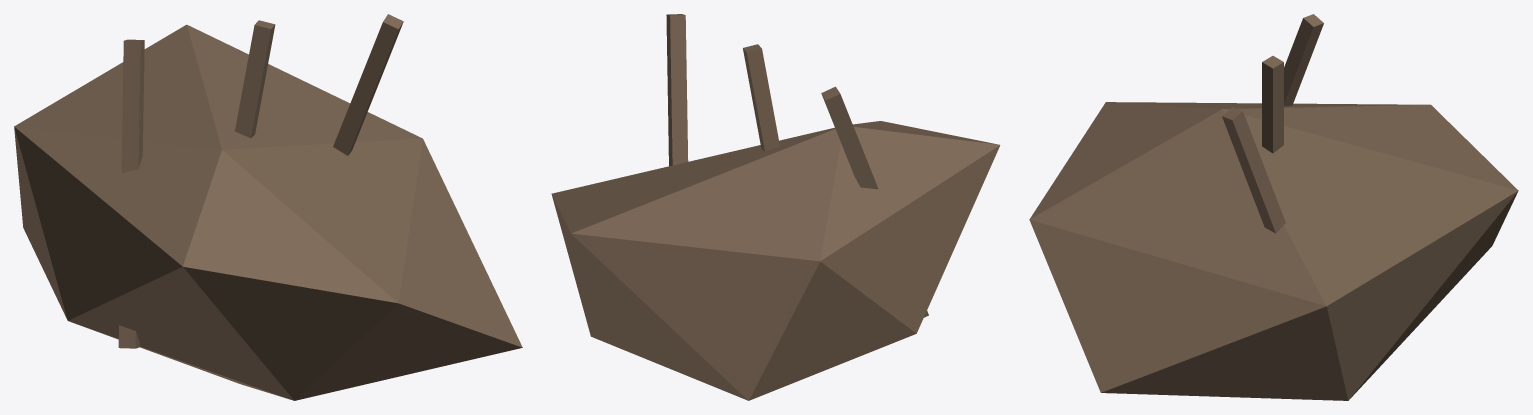
The model's file is dry_bush.fbx.
3 views of the same model, side by side, from view 1: azimuth 30°, elevation 25°; view 2: azimuth 150°, elevation 25°; view 3: azimuth 270°, elevation 25° (orthographic). The views are drawn at different scales.
Parts seen in each view (by area): view 1: dry_bush; view 2: dry_bush; view 3: dry_bush.
Part boxes in pixels (left/top/right/bottom): dry_bush: left=14, top=14, right=522, bottom=400; dry_bush: left=551, top=14, right=1000, bottom=400; dry_bush: left=1029, top=14, right=1518, bottom=400.
Bounding box in the file's own units: 0.704 × 0.6524 × 0.8891.
